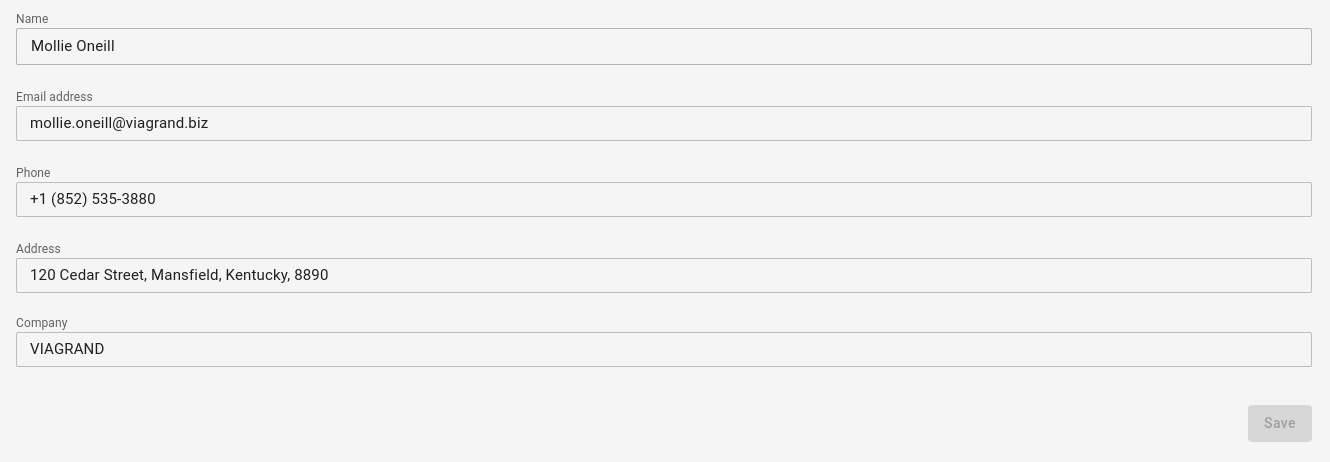
Test: Form › should check if cancel button is clicked, the form will reset, save button will be disabled and cancel button will disappear
The width and height of the screenshot is (1330, 462).
Replace the text in the field with test id "name-field" with "James Dean" at (664, 46), box [16,28,1312,65]
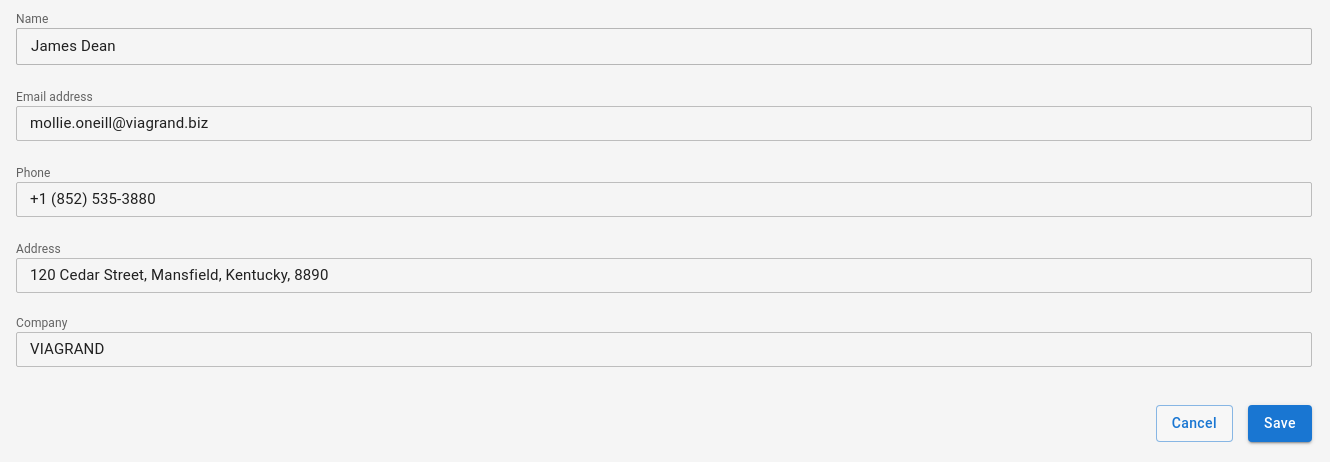
Replace the text in the field with test id "phone-field" with "111-2222-3" at (664, 200), box [16,182,1312,217]
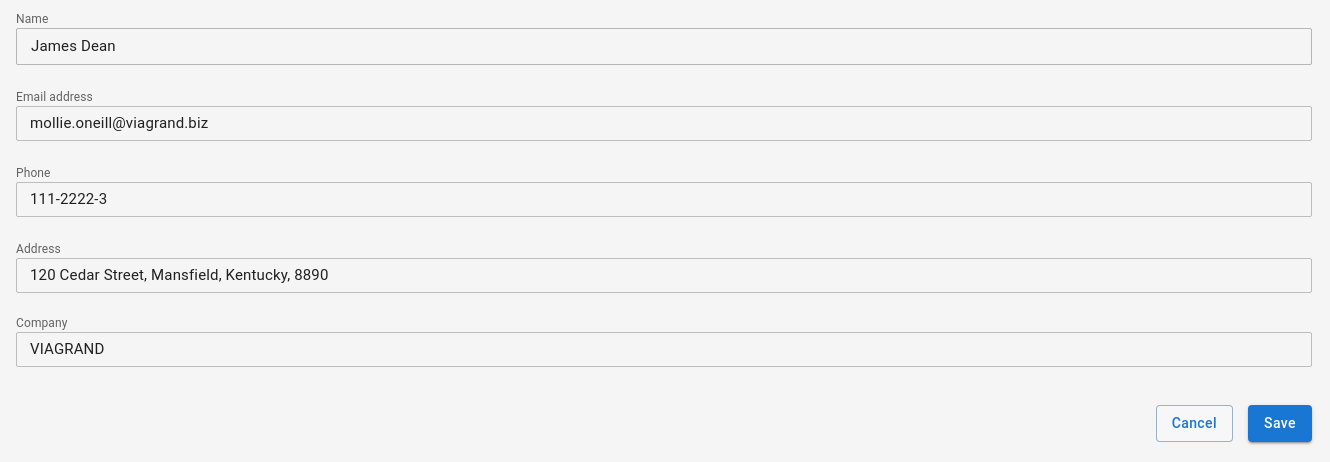
Expected: the field with test id "email-field" holds "mollie.oneill@viagrand.biz", [16,106,1312,141]
Expected: the button with test id "save-btn" is enabled, [1248,405,1312,442]
Click the button with test id "cancel-btn".
click(1194, 423)  # box [1156,405,1233,442]
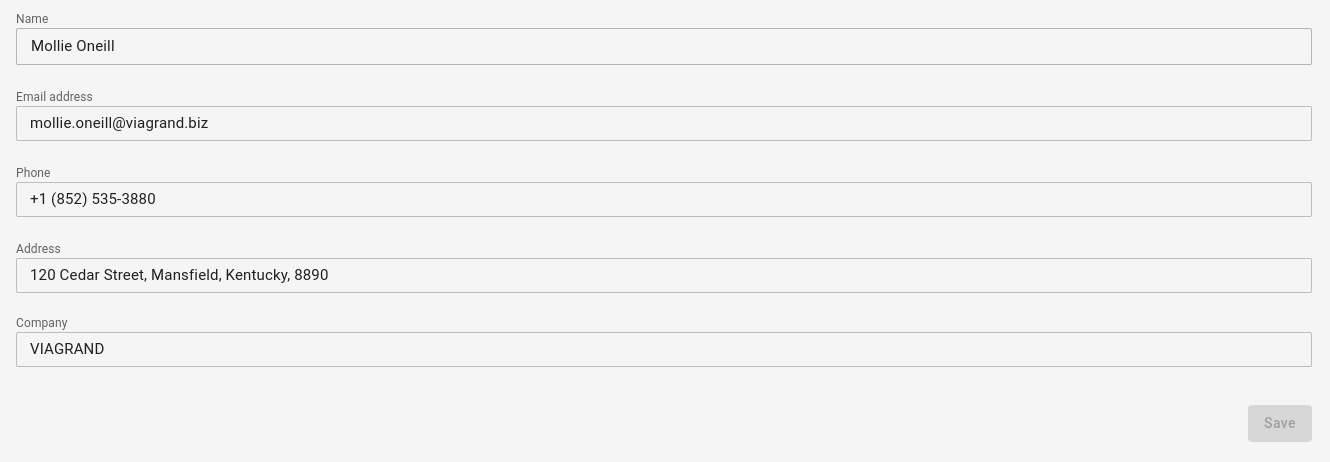
Expected: the field with test id "name-field" holds "Mollie Oneill", [16,28,1312,65]
Expected: the field with test id "phone-field" holds "+1 (852) 535-3880", [16,182,1312,217]
Expected: the button with test id "save-btn" is disabled, [1248,405,1312,442]
